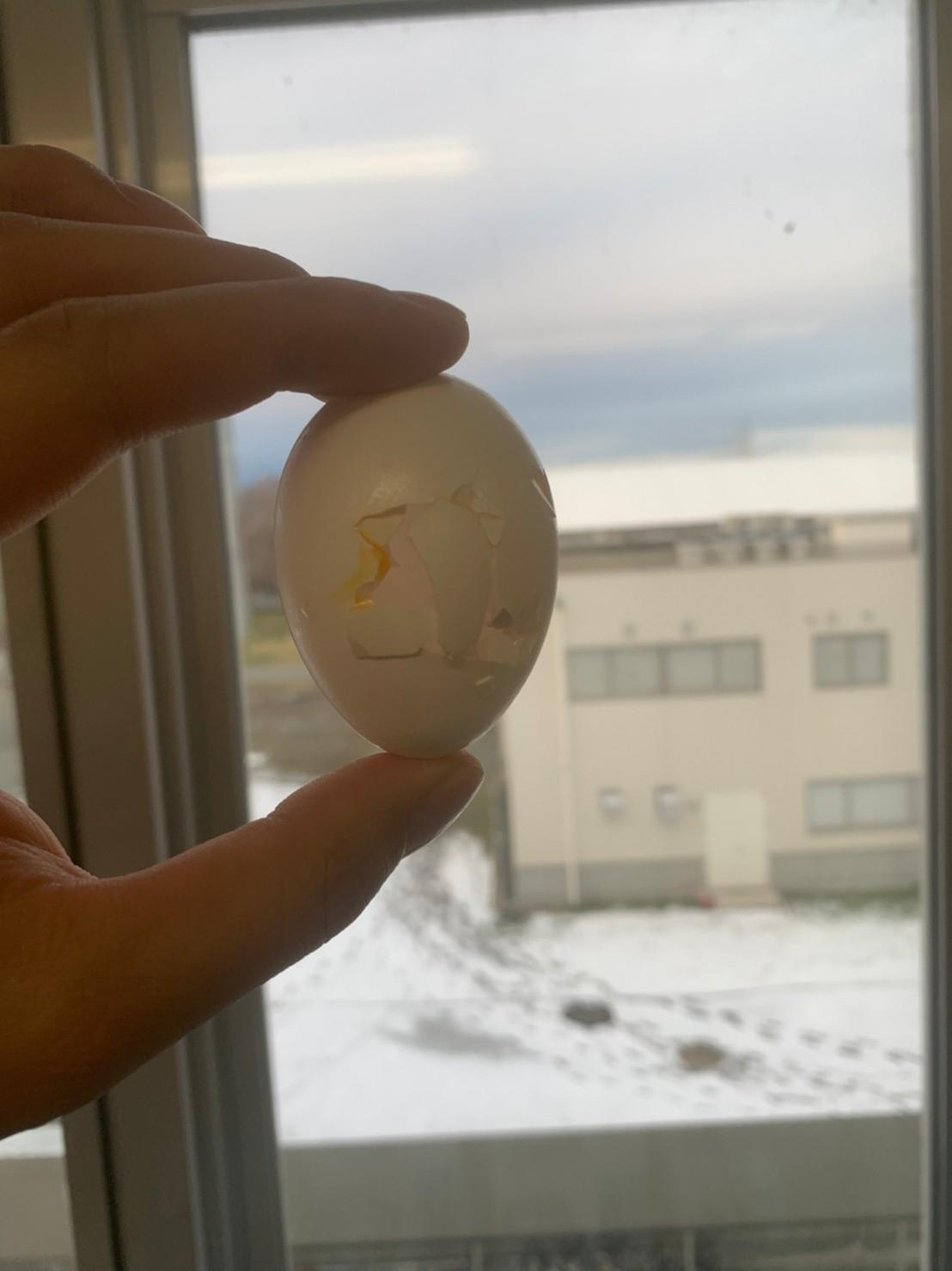egg: (269, 370, 566, 759)
